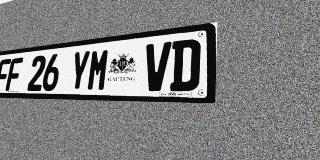2: (27, 55, 47, 91)
6: (41, 53, 62, 91)
D: (169, 38, 201, 91)
F: (5, 57, 23, 91), (0, 59, 11, 91)
M: (86, 48, 111, 91)
V: (142, 41, 172, 91)
Y: (68, 50, 91, 91)
